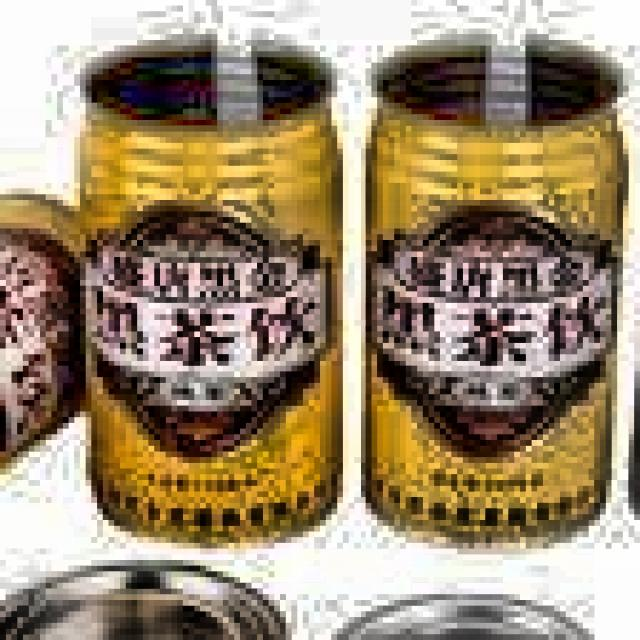metal: (68, 6, 366, 560), (337, 17, 640, 554), (0, 165, 114, 605), (0, 531, 303, 640), (303, 560, 634, 640)
